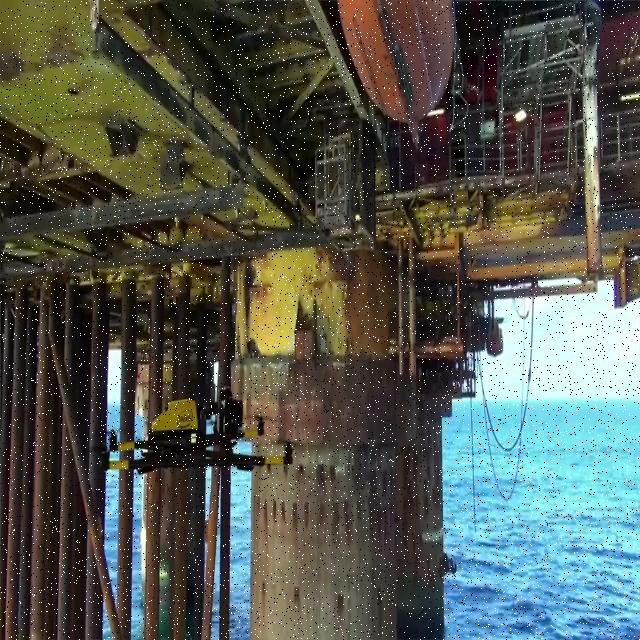UAV: (75, 386, 293, 474)
